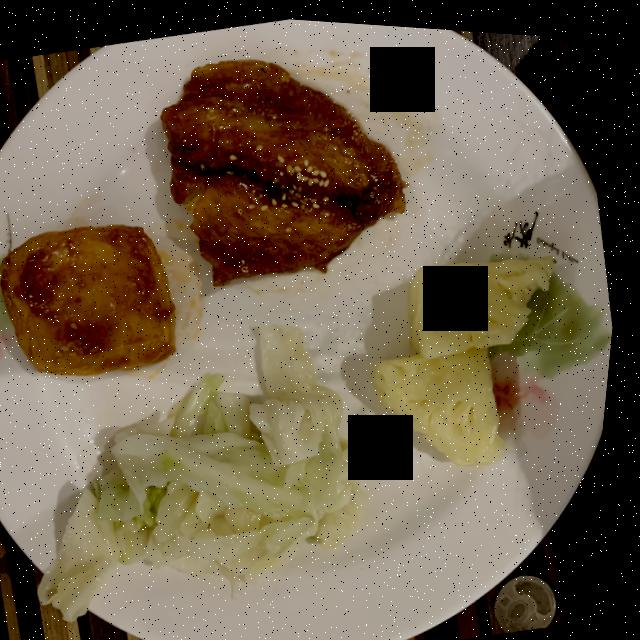Kabayaki sea bream fillet: (162, 56, 408, 283)
cabbage: (49, 320, 377, 619)
coin: (504, 566, 566, 625)
creamy tofu: (5, 222, 182, 374)
pineapple: (378, 247, 559, 458)
